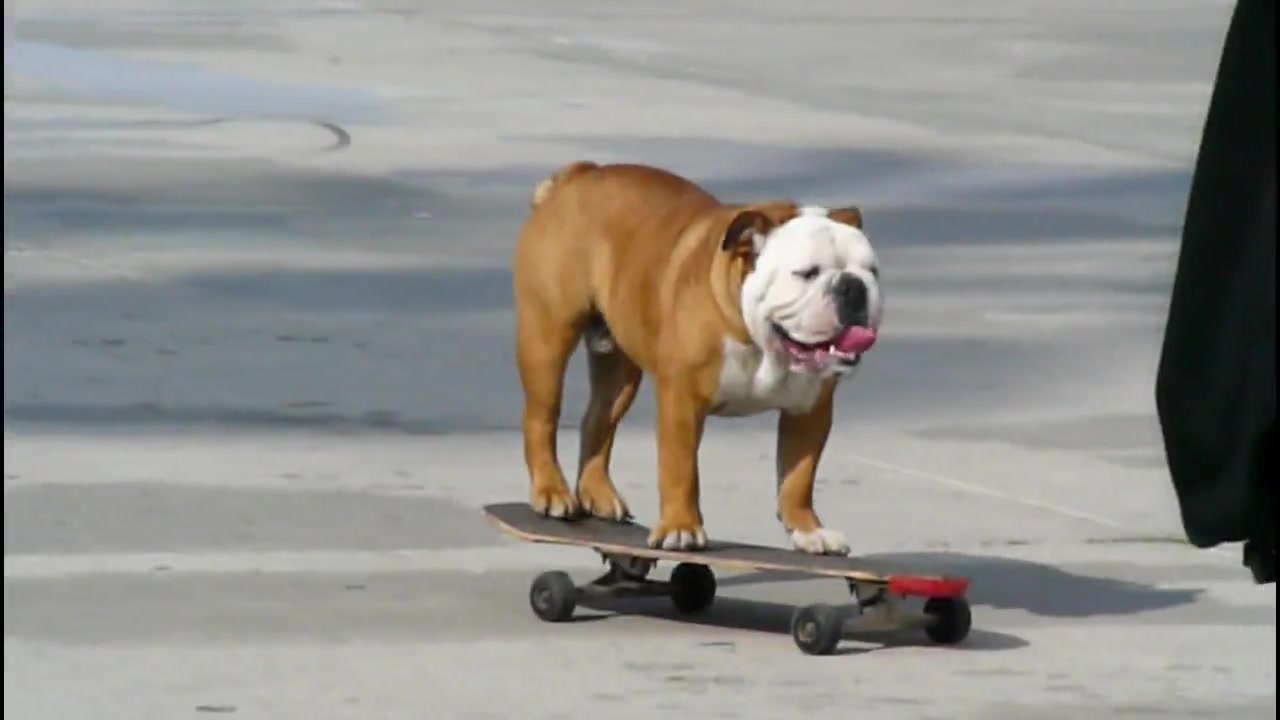dog: (510, 154, 890, 564)
